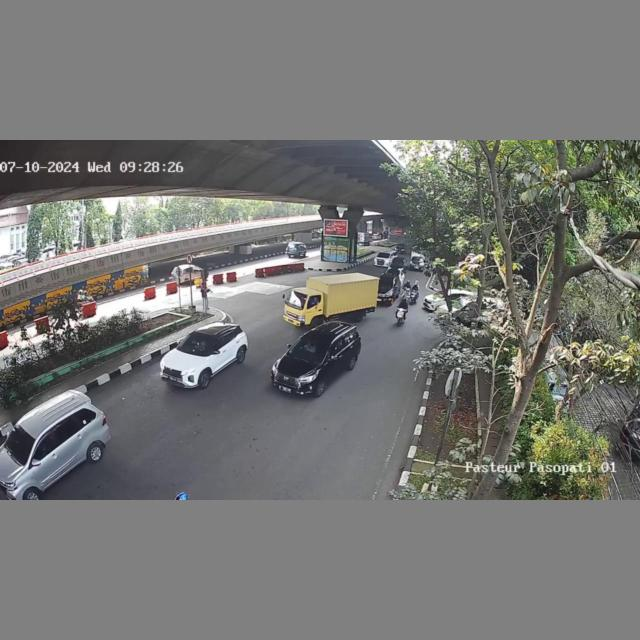windshield: (4, 422, 40, 463), (288, 334, 330, 362), (177, 334, 213, 355), (284, 291, 310, 309)
